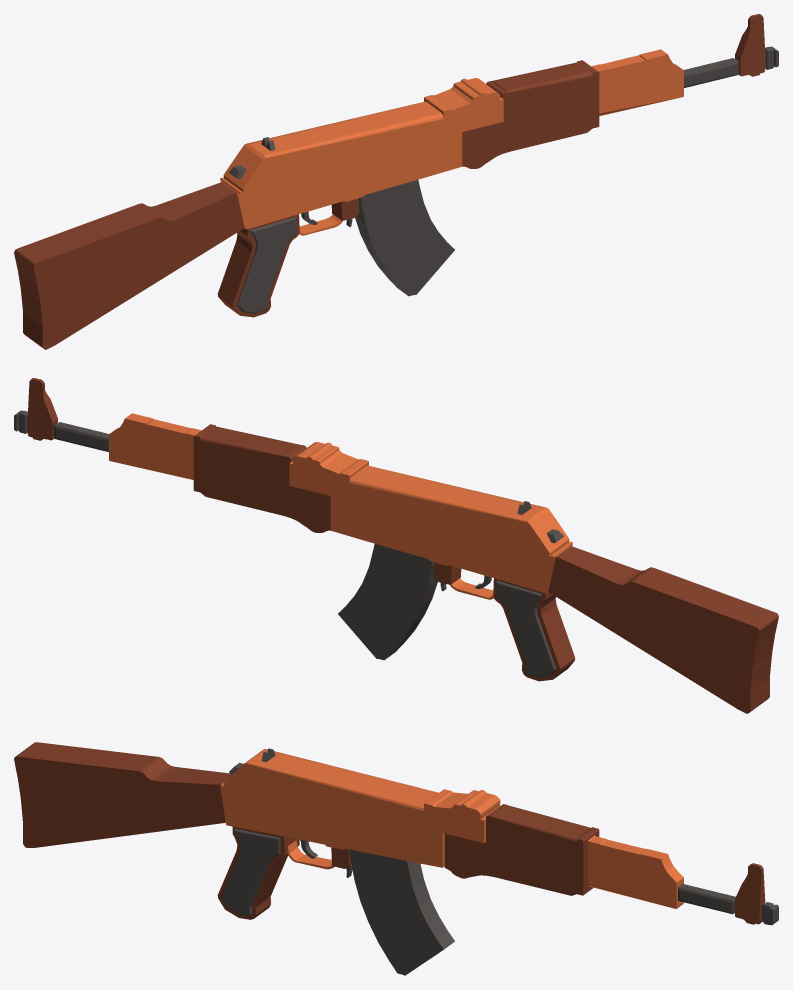
Rendered from wep_ak_originFix.glb.
3 views of the same model, one above another, from view 1: azimuth 30°, elevation 25°; view 2: azimuth 150°, elevation 25°; view 3: azimuth 330°, elevation 25° (orthographic).
Visible parts, largest first — view 1: NurbsPath.001; view 2: NurbsPath.001; view 3: NurbsPath.001.
Boxes of the visible parts, x1,y1,x2,y2 form: NurbsPath.001: (14, 14, 778, 349); NurbsPath.001: (14, 378, 778, 713); NurbsPath.001: (14, 742, 778, 975).
Size of the model in its own units: 7.82 by 1.9 by 0.3545.
